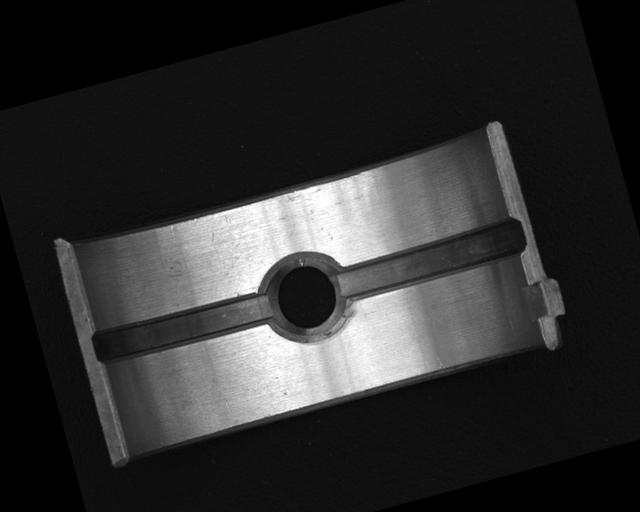gap: (332, 212, 529, 306), (89, 286, 277, 367)
hole: (251, 239, 360, 355)
